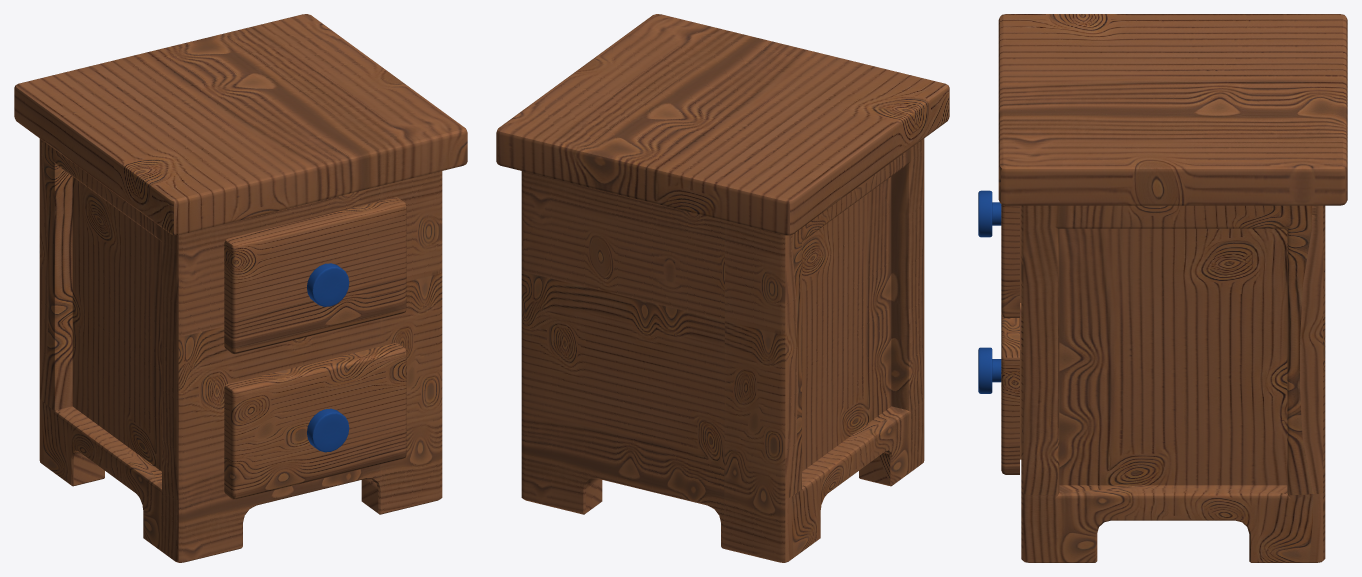
The model's file is NightstandRemade.fbx.
3 renders of one model, left to right at view 1: azimuth 30°, elevation 25°; view 2: azimuth 150°, elevation 25°; view 3: azimuth 270°, elevation 25°, orthographic. The views are drawn at different scales.
Visible parts, largest first — view 1: Nightstand, DrawerBottom, DrawerTop; view 2: Nightstand; view 3: Nightstand, DrawerBottom, DrawerTop.
Part boxes in pixels (x1,y1,x2,y2): Nightstand: (14, 14, 467, 562); DrawerBottom: (224, 343, 406, 499); DrawerTop: (224, 197, 406, 354); Nightstand: (496, 14, 949, 562); Nightstand: (998, 14, 1347, 562); DrawerBottom: (978, 303, 1021, 474); DrawerTop: (978, 190, 1021, 317).
Bounding box in the file's own units: 987 × 1187 × 985.
